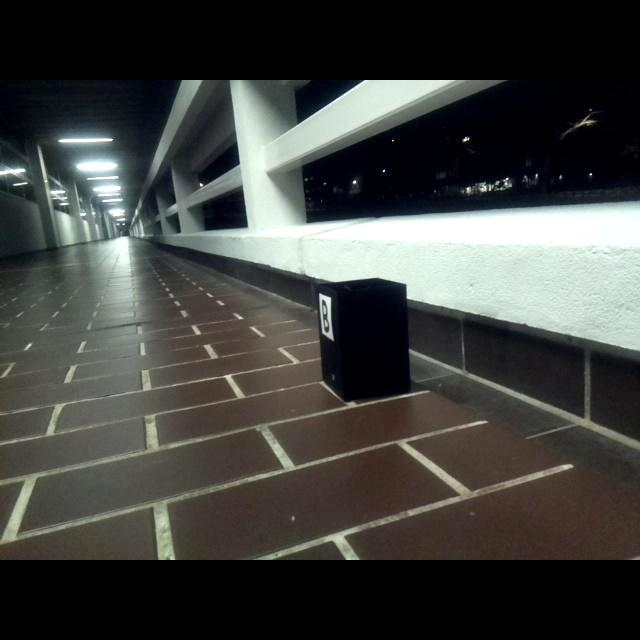B: (320, 295, 332, 335)
